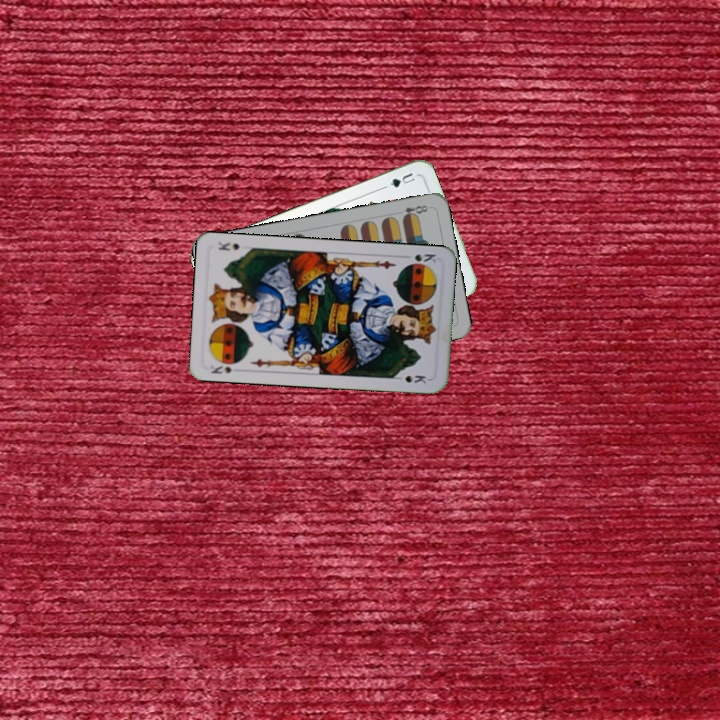E8: (398, 201, 431, 221)
GU: (386, 168, 418, 190)
SK: (399, 250, 438, 266), (206, 361, 235, 376)
